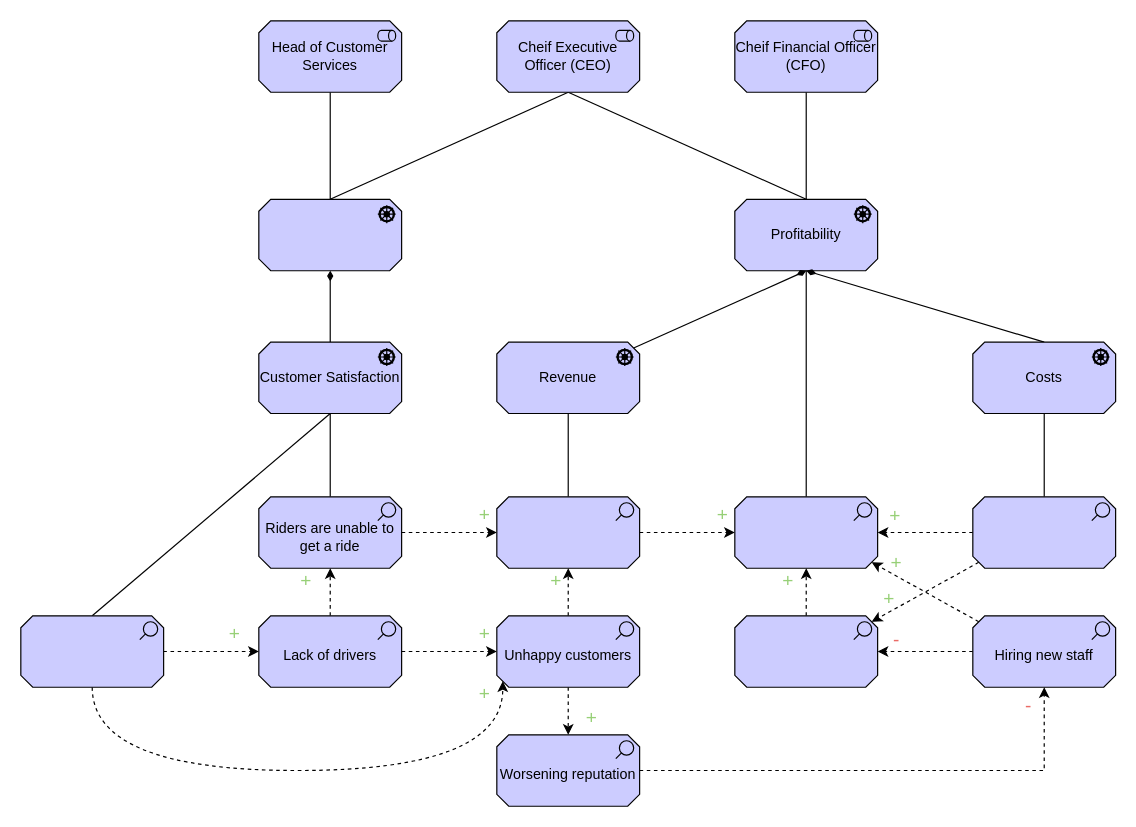
The diagram is 1136 pixels wide and 827 high, and some of its shapes have lost their labels. The shapes that lost their labels are listed below. From the top down, each one's centre as x and y in pixels, then its label:
At [330,234]: "Reliability".
At [568,532]: "Revenue declining".
At [806,532]: "Profitability declining".
At [1044,532]: "Costs of running two seperate services".
At [92,651]: "Driver and rider conflict".
At [806,651]: "Not having time to develop new projects".
